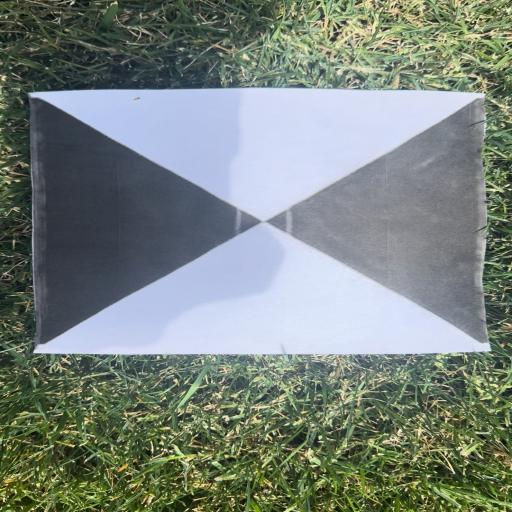target: (34, 92, 490, 351)
